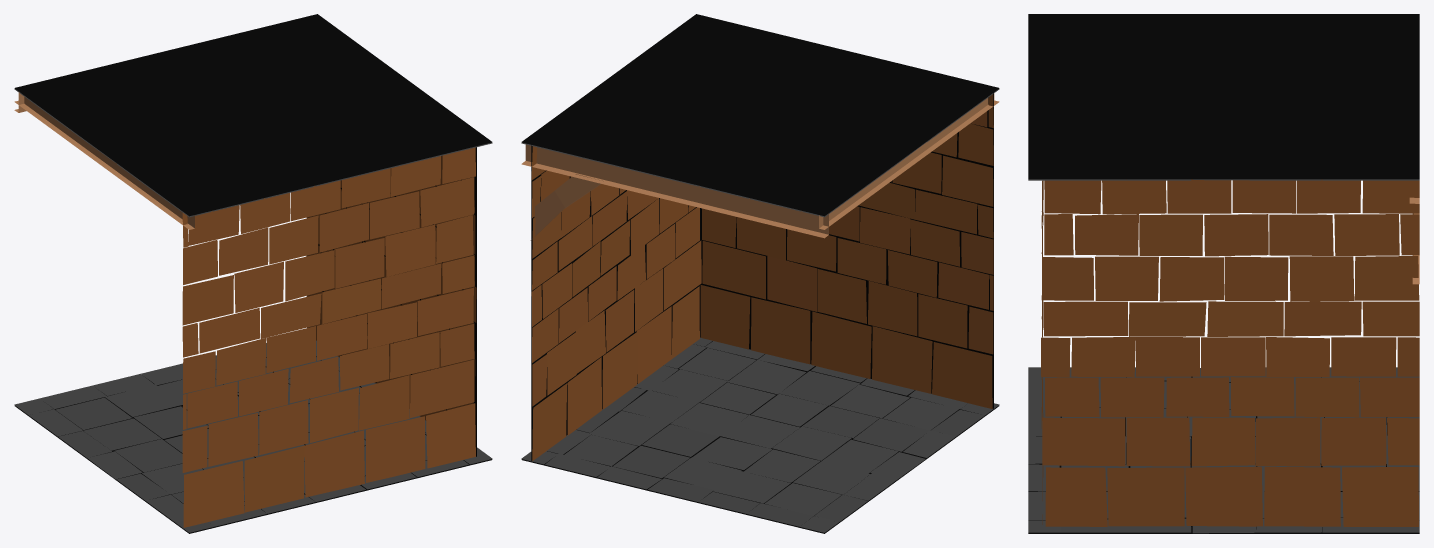
Rendered from wall_9.glb.
3 renders of one model, left to right at view 1: azimuth 30°, elevation 25°; view 2: azimuth 150°, elevation 25°; view 3: azimuth 270°, elevation 25°, orthographic. The views are drawn at different scales.
Visible parts, largest first — view 1: wall_9; view 2: wall_9; view 3: wall_9.
Part boxes in pixels (left/top/right/bottom): wall_9: left=14, top=14, right=492, bottom=533; wall_9: left=521, top=14, right=999, bottom=533; wall_9: left=1028, top=14, right=1419, bottom=533.
Bounding box in the file's own units: 3 × 3 × 3.
1 material, 1 textured.
